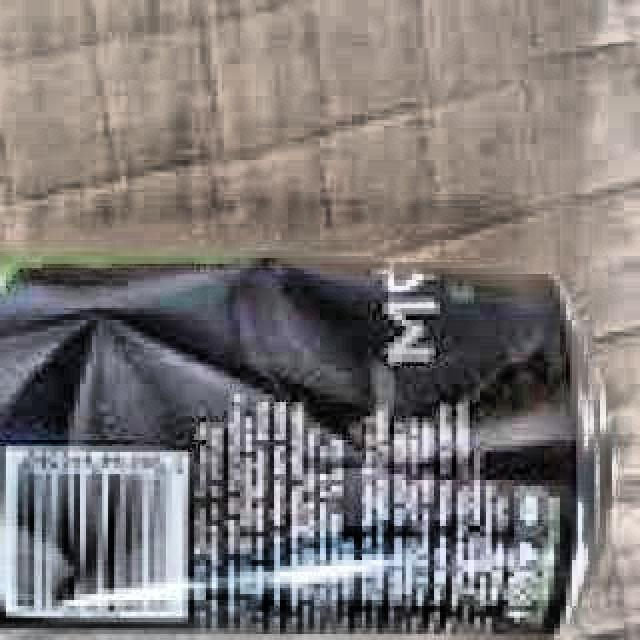metal: (0, 253, 615, 640)
